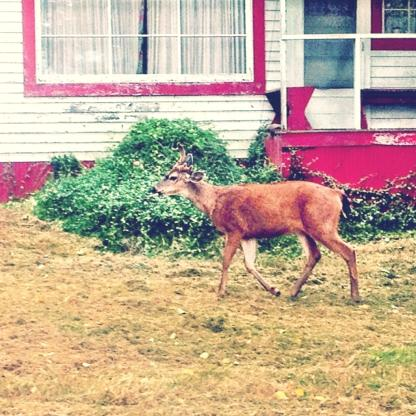Deer: (148, 138, 363, 312)
